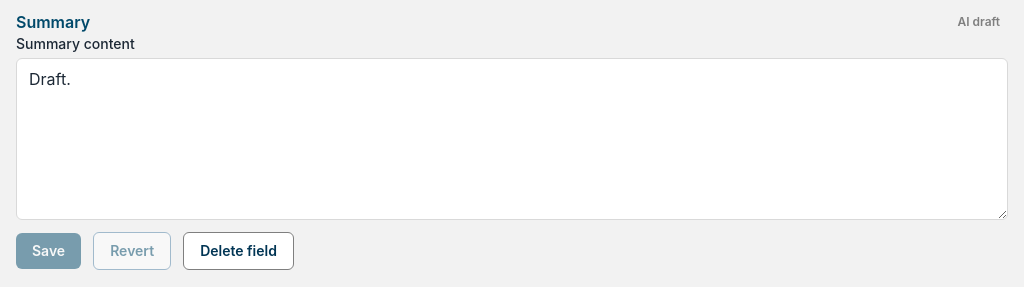
ReportFieldCard › keeps Save disabled until the content changes
The width and height of the screenshot is (1024, 287).
Expected: the button "Save" is disabled, [16,233,81,269]
Type "!" into the text box labelled "Summary content".
click(512, 139); type("!")  # box [16,58,1008,220]
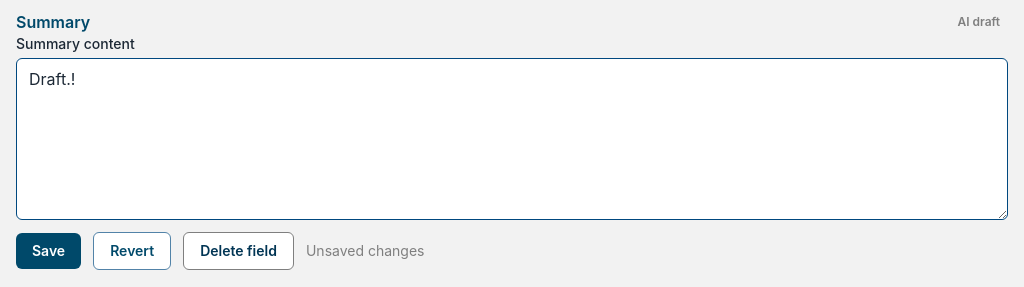
Expected: the button "Save" is enabled, [16,233,81,269]
Expected: the text "Unsaved changes" is shown, [306,241,424,261]
